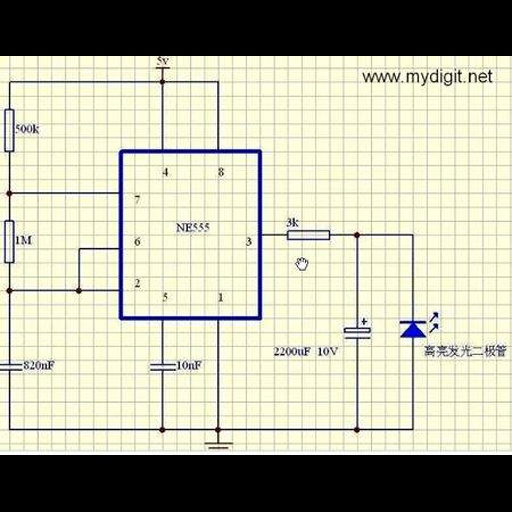capacitor: (147, 358, 177, 378), (1, 353, 22, 377)
firstled: (392, 309, 447, 343)
firstresistance: (282, 226, 333, 242), (1, 107, 16, 158), (2, 218, 16, 266)
secondpolarcapacitor: (338, 316, 377, 344)
